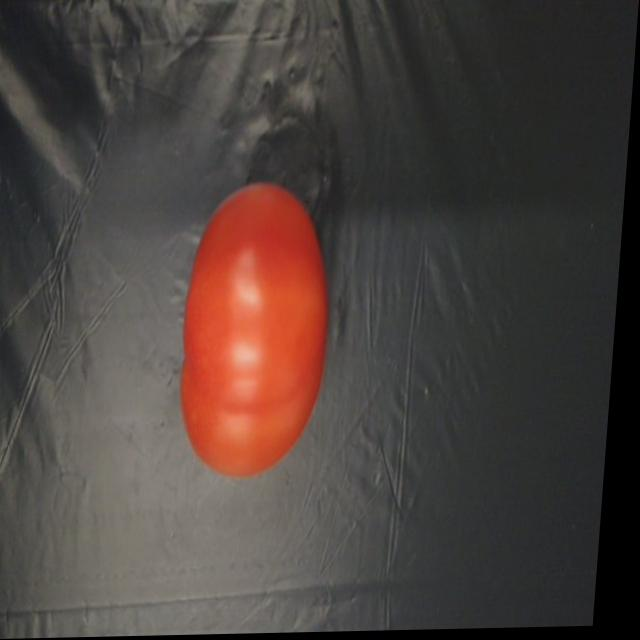kirmizi: (175, 169, 351, 505)
